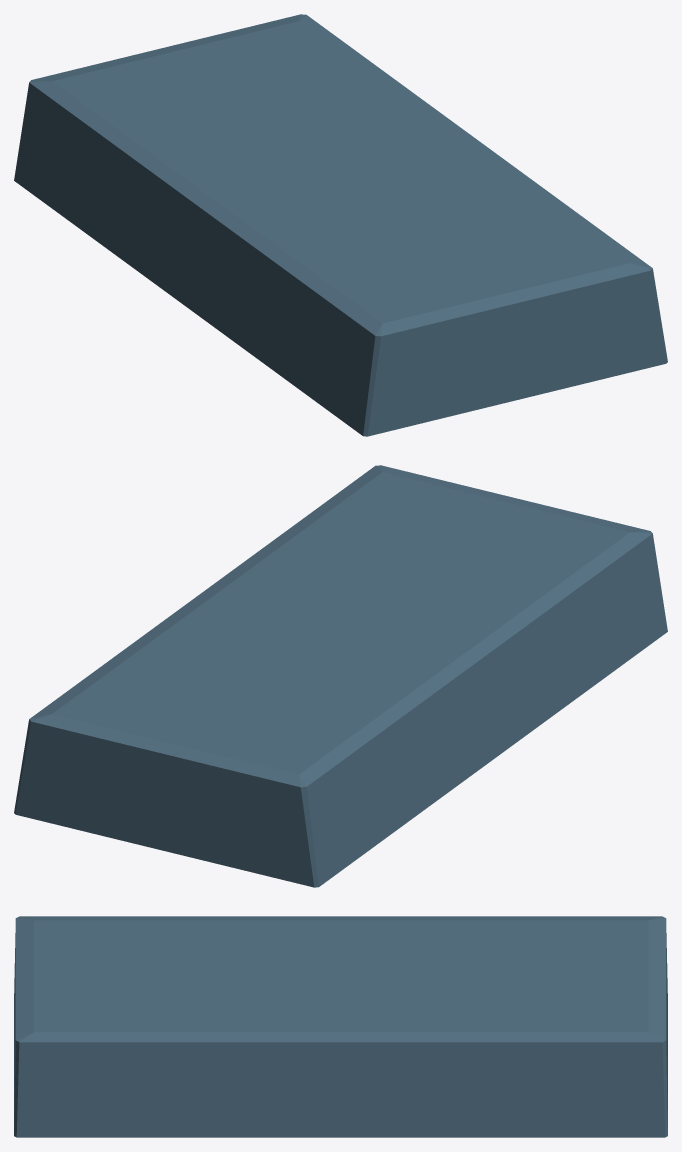
File: stack-steel-plate.glb
The picture shows the model from 3 angles, top to bottom: view 1: azimuth 30°, elevation 25°; view 2: azimuth 150°, elevation 25°; view 3: azimuth 270°, elevation 25°; orthographic projection. The views are drawn at different scales.
Parts seen in each view (by area): view 1: Cube.014; view 2: Cube.014; view 3: Cube.014.
Boxes of the visible parts, <box> form: Cube.014: <box>14,14,667,436</box>; Cube.014: <box>14,465,667,887</box>; Cube.014: <box>14,916,667,1137</box>.
Size of the model in its own units: 2.2 by 0.6833 by 4.4.
